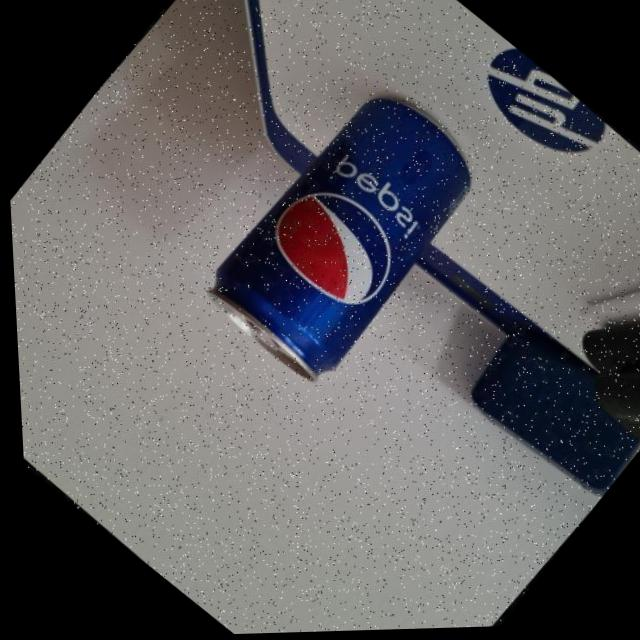metal: (175, 59, 514, 403)
